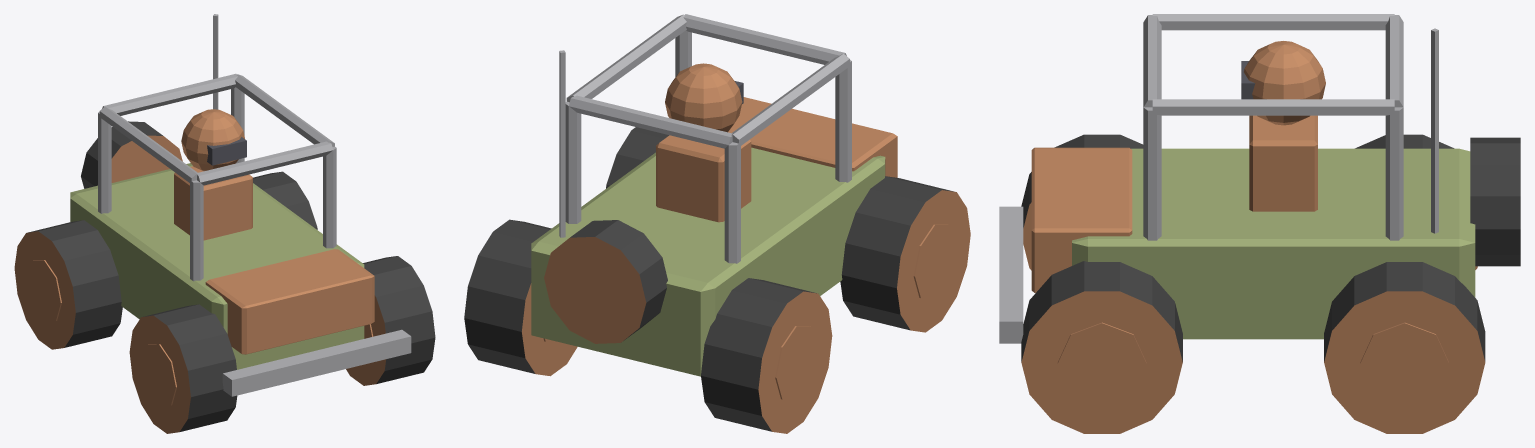
Rendered from ironmoth.glb.
The picture shows the model from 3 angles, left to right: view 1: azimuth 30°, elevation 25°; view 2: azimuth 150°, elevation 25°; view 3: azimuth 270°, elevation 25°; orthographic projection. The views are drawn at different scales.
Parts seen in each view (by area): view 1: IRONMOTH_BODY, WHEEL_RL, WHEEL_FL, WHEEL_FR, WHEEL_RR; view 2: IRONMOTH_BODY, WHEEL_RL, WHEEL_FL, WHEEL_RR, WHEEL_FR; view 3: IRONMOTH_BODY, WHEEL_FR, WHEEL_RR, WHEEL_FL, WHEEL_RL.
Part boxes in pixels (x1=…): IRONMOTH_BODY: x1=70, y1=14, x2=411, y2=396; WHEEL_RL: x1=14, y1=220, x2=122, y2=349; WHEEL_FL: x1=129, y1=304, x2=237, y2=433; WHEEL_FR: x1=346, y1=256, x2=435, y2=385; WHEEL_RR: x1=253, y1=171, x2=317, y2=229; IRONMOTH_BODY: x1=531, y1=14, x2=897, y2=376; WHEEL_RL: x1=701, y1=278, x2=832, y2=433; WHEEL_FL: x1=840, y1=176, x2=970, y2=332; WHEEL_RR: x1=464, y1=219, x2=577, y2=376; WHEEL_FR: x1=606, y1=127, x2=668, y2=188; IRONMOTH_BODY: x1=999, y1=14, x2=1520, y2=343; WHEEL_FR: x1=1021, y1=261, x2=1182, y2=433; WHEEL_RR: x1=1324, y1=262, x2=1485, y2=433; WHEEL_FL: x1=1021, y1=134, x2=1143, y2=270; WHEEL_RL: x1=1355, y1=134, x2=1477, y2=269.
Size of the model in its own units: 1.86 by 1.99 by 2.59.
